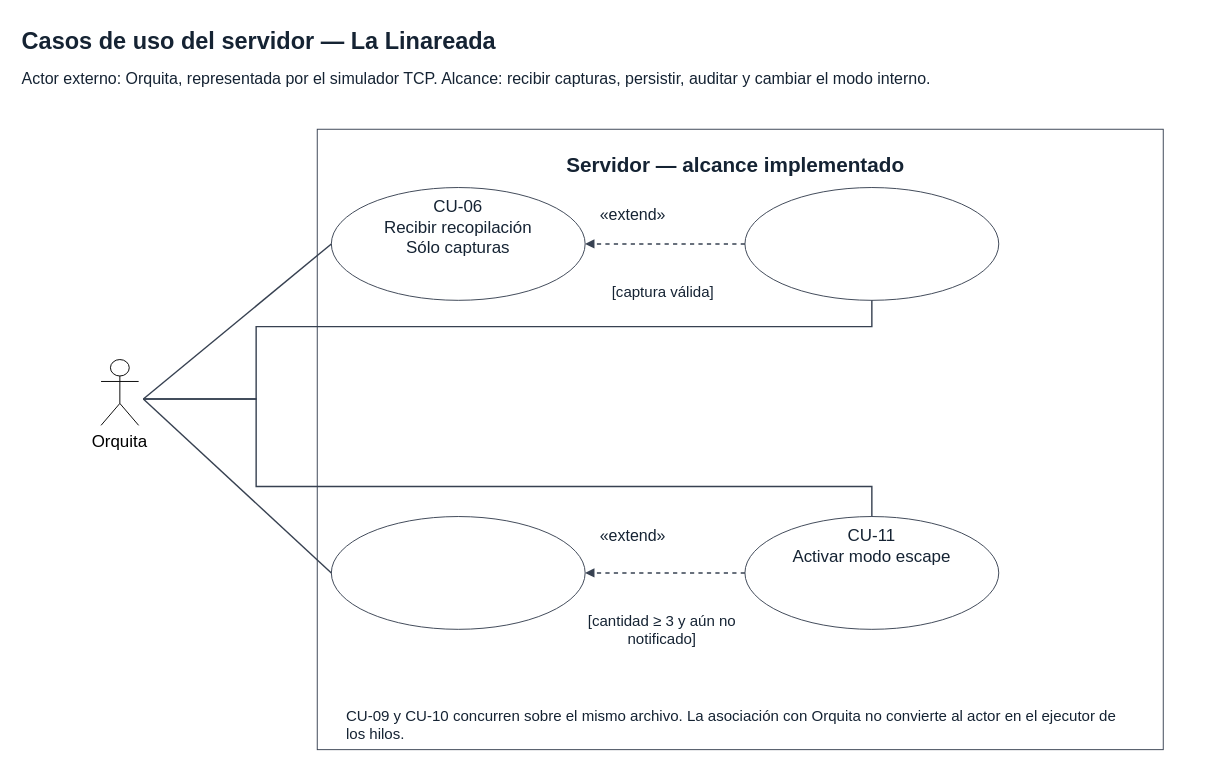
This 1216x766 diagram has some shape labels left out. Here are the shapes that lost their labels. From the top down, the centre of each, then its label:
At point (871, 243): "CU-09 Actualizar estómago".
At point (457, 572): "CU-10 Leer estómago".
